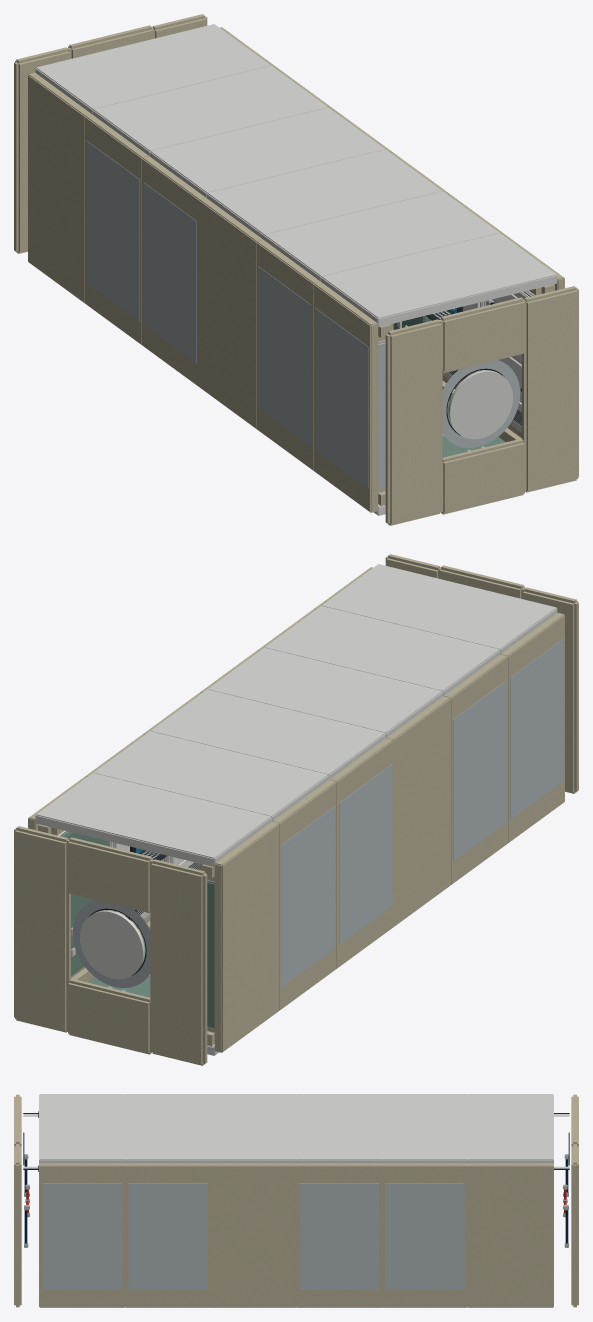
Rendered from nauka_optimized.glb.
3 views of the same model, one above another, from view 1: azimuth 30°, elevation 25°; view 2: azimuth 150°, elevation 25°; view 3: azimuth 270°, elevation 25° (orthographic). The views are drawn at different scales.
Parts seen in each view (by area): view 1: nauka_interior; view 2: nauka_interior; view 3: nauka_interior.
Part boxes in pixels (x1,y1,x2,y2): nauka_interior: [14, 14, 578, 525]; nauka_interior: [14, 554, 578, 1065]; nauka_interior: [14, 1094, 578, 1307].
Bounding box in the file's own units: 3.1 × 3 × 10.34.
15 materials, 2 textured.
